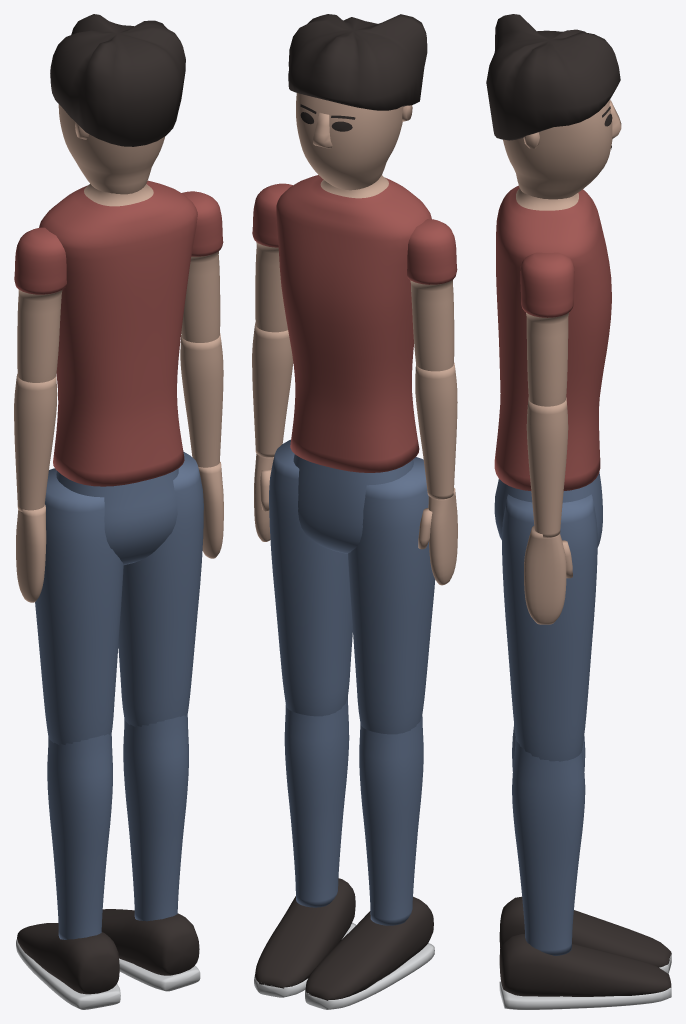
Rendered from peter.glb.
3 renders of one model, left to right at view 1: azimuth 30°, elevation 25°; view 2: azimuth 150°, elevation 25°; view 3: azimuth 270°, elevation 25°, orthographic.
Parts seen in each view (by area): view 1: body_shirt, body_jeansR, body_jeansL, body_hair, body_shinR, body_shinL, body_armR, body_shoeR, body_shoeL, body_hips, body_forearmR, body_armL (+4 smaller); view 2: body_shirt, body_jeansR, body_jeansL, body_hair, body_shinR, body_shinL, body_shoeR, body_head, body_armR, body_shoeL, body_hips, body_forearmR (+4 smaller); view 3: body_shirt, body_jeansL, body_hair, body_shinL, body_shoeL, body_armL, body_head, body_forearmL, body_shoeR, body_handL, body_hips.
Part boxes in pixels (bbox=[...]): body_shirt: bbox=[39, 180, 197, 486]; body_jeansR: bbox=[35, 468, 123, 744]; body_jeansL: bbox=[118, 451, 203, 726]; body_hair: bbox=[50, 14, 185, 146]; body_shinR: bbox=[47, 733, 112, 939]; body_shinL: bbox=[123, 714, 188, 921]; body_armR: bbox=[14, 227, 66, 382]; body_shoeR: bbox=[16, 923, 120, 1009]; body_shoeL: bbox=[101, 909, 200, 991]; body_hips: bbox=[56, 469, 178, 564]; body_forearmR: bbox=[14, 374, 57, 511]; body_armL: bbox=[181, 191, 223, 342]; body_shirt: bbox=[276, 175, 431, 472]; body_jeansR: bbox=[348, 457, 435, 734]; body_jeansL: bbox=[269, 439, 352, 716]; body_hair: bbox=[288, 14, 427, 110]; body_shinR: bbox=[359, 716, 423, 925]; body_shinL: bbox=[284, 697, 349, 907]; body_shoeR: bbox=[305, 896, 434, 1009]; body_head: bbox=[296, 93, 412, 190]; body_armR: bbox=[407, 219, 457, 371]; body_shoeL: bbox=[254, 878, 355, 997]; body_hips: bbox=[293, 454, 413, 553]; body_forearmR: bbox=[415, 362, 457, 499]; body_shirt: bbox=[494, 185, 611, 490]; body_jeansL: bbox=[502, 494, 597, 761]; body_hair: bbox=[486, 14, 620, 140]; body_shinL: bbox=[512, 737, 585, 955]; body_shoeL: bbox=[499, 934, 671, 1009]; body_armL: bbox=[520, 252, 574, 406]; body_head: bbox=[503, 99, 621, 199]; body_forearmL: bbox=[526, 397, 568, 537]; body_shoeR: bbox=[499, 896, 671, 973]; body_handL: bbox=[524, 526, 572, 624]; body_hips: bbox=[494, 472, 602, 547].
Bounding box in the file's own units: 0.3574 × 1.6 × 0.2826.
